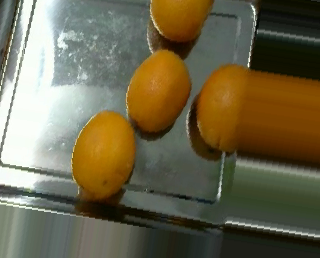Orange: (71, 109, 136, 198), (126, 47, 192, 133)
